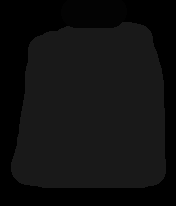fp: (11, 21, 171, 188)
